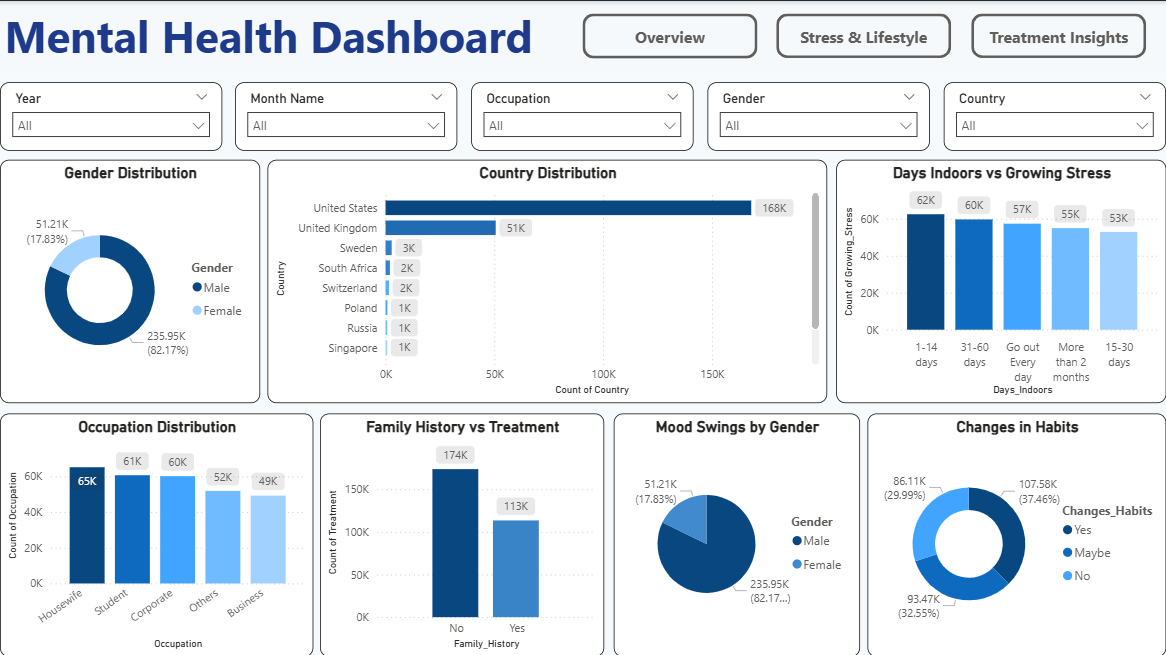

Layout of this report page (visuals, bound fields, positions):
{"tool":"powerbi","page":{"name":"Overview Dashboard","canvas":[1280,720],"ordinal":2},"visuals":[{"type":"textbox","box":[0,0,1280.3,76.8],"z":0},{"type":"slicer","fields":{"Values":["Mental Health Dataset (2).Year"]},"box":[0,89.2,244.3,75.5],"z":1000},{"type":"slicer","fields":{"Values":["Mental Health Dataset (2).Month Name"]},"box":[258,89.2,244.3,75.5],"z":2000},{"type":"slicer","fields":{"Values":["Mental Health Dataset (2).Country"]},"box":[1036,89.2,244.3,75.5],"z":3000},{"type":"slicer","fields":{"Values":["Mental Health Dataset (2).Occupation"]},"box":[517.3,89.2,244.3,75.5],"z":4000},{"type":"slicer","fields":{"Values":["Mental Health Dataset (2).Gender"]},"box":[776.7,89.2,244.3,75.5],"z":5000},{"type":"donutChart","title":"Gender Distribution","fields":{"Y":["CountNonNull(Mental Health Dataset.Gender)"],"Category":["Mental Health Dataset.Gender"]},"box":[0,174.3,285.4,267.6],"z":6000},{"type":"clusteredBarChart","title":"Country Distribution","fields":{"Category":["Mental Health Dataset (2).Country"],"Y":["CountNonNull(Mental Health Dataset (2).Country)"]},"box":[293.7,174.3,614.8,267.6],"z":7000},{"type":"columnChart","title":"Occupation Distribution","fields":{"Category":["Mental Health Dataset (2).Occupation"],"Y":["CountNonNull(Mental Health Dataset (2).Occupation)"]},"box":[0,452.8,344,267.6],"z":8000},{"type":"columnChart","title":"Family History vs Treatment","fields":{"Y":["CountNonNull(Mental Health Dataset (2).Treatment)"],"Category":["Mental Health Dataset (2).Family_History"]},"box":[351.3,452.8,312,267.6],"z":9000},{"type":"columnChart","title":"Days Indoors vs Growing Stress","fields":{"Category":["Mental Health Dataset (2).Days_Indoors"],"Y":["CountNonNull(Mental Health Dataset (2).Growing_Stress)"]},"box":[918,174.3,362.3,267.6],"z":10000},{"type":"donutChart","title":"Changes in Habits","fields":{"Category":["Mental Health Dataset (2).Changes_Habits"],"Y":["CountNonNull(Mental Health Dataset (2).Changes_Habits)"]},"box":[952.3,452.8,328,267.6],"z":11000},{"type":"pieChart","title":"Mood Swings by Gender","fields":{"Category":["Mental Health Dataset (2).Gender"],"Y":["CountNonNull(Mental Health Dataset (2).Mood_Swings)"]},"box":[673.8,452.8,270,267.6],"z":12000},{"type":"actionButton","title":"Overview ","box":[639.5,13.7,192.1,49.4],"z":13000},{"type":"actionButton","box":[852.1,13.7,192,49],"z":13001},{"type":"actionButton","title":"Treatment Insights","box":[1066.2,13.7,192,49],"z":13002}]}

Visuals, with their boxes in screenshot pixels (x1, y1, x2, y2), scaled from the page's 1280x720 canvas onto the 1166x655 screenshot:
textbox: {"left": 0, "top": 0, "right": 1165, "bottom": 70}
slicer - Mental Health Dataset (2).Year: {"left": 0, "top": 81, "right": 223, "bottom": 150}
slicer - Mental Health Dataset (2).Month Name: {"left": 235, "top": 81, "right": 458, "bottom": 150}
slicer - Mental Health Dataset (2).Country: {"left": 944, "top": 81, "right": 1165, "bottom": 150}
slicer - Mental Health Dataset (2).Occupation: {"left": 471, "top": 81, "right": 694, "bottom": 150}
slicer - Mental Health Dataset (2).Gender: {"left": 708, "top": 81, "right": 930, "bottom": 150}
"Gender Distribution" donutChart: {"left": 0, "top": 159, "right": 260, "bottom": 402}
"Country Distribution" clusteredBarChart: {"left": 268, "top": 159, "right": 828, "bottom": 402}
"Occupation Distribution" columnChart: {"left": 0, "top": 412, "right": 313, "bottom": 654}
"Family History vs Treatment" columnChart: {"left": 320, "top": 412, "right": 604, "bottom": 654}
"Days Indoors vs Growing Stress" columnChart: {"left": 836, "top": 159, "right": 1165, "bottom": 402}
"Changes in Habits" donutChart: {"left": 867, "top": 412, "right": 1165, "bottom": 654}
"Mood Swings by Gender" pieChart: {"left": 614, "top": 412, "right": 860, "bottom": 654}
"Overview " actionButton: {"left": 583, "top": 12, "right": 758, "bottom": 57}
actionButton: {"left": 776, "top": 12, "right": 951, "bottom": 57}
"Treatment Insights" actionButton: {"left": 971, "top": 12, "right": 1146, "bottom": 57}
